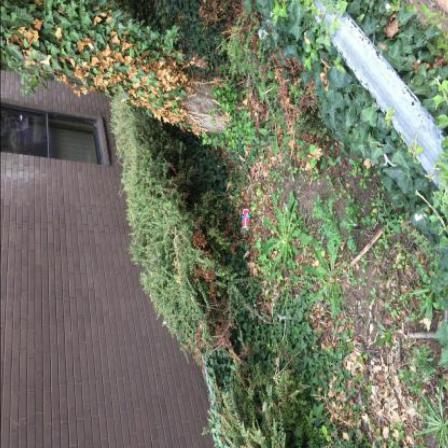Can: (243, 210, 252, 232)
